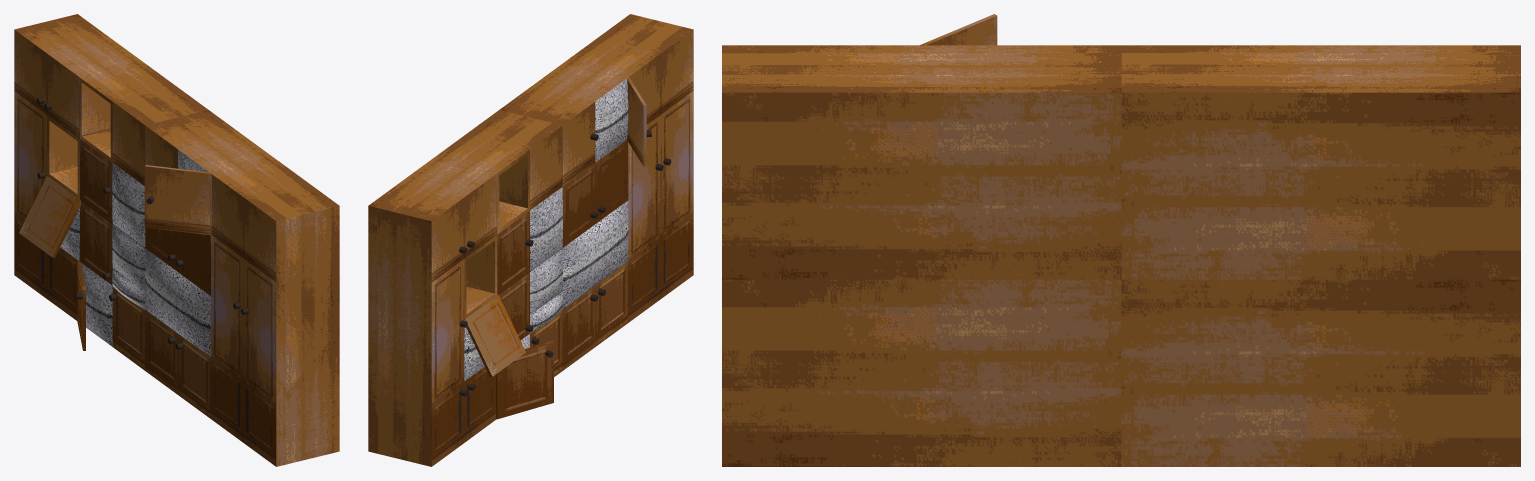
Rendered from Closet.fbx.
3 renders of one model, left to right at view 1: azimuth 30°, elevation 25°; view 2: azimuth 150°, elevation 25°; view 3: azimuth 270°, elevation 25°, orthographic. The views are drawn at different scales.
Visible parts, largest first — view 1: Cube.079; view 2: Cube.079; view 3: Cube.079.
Boxes of the visible parts, x1,y1,x2,y2 form: Cube.079: (14,14,339,466); Cube.079: (368,14,693,466); Cube.079: (722,14,1520,466).
Bounding box in the file's own units: 154 × 337 × 651.
